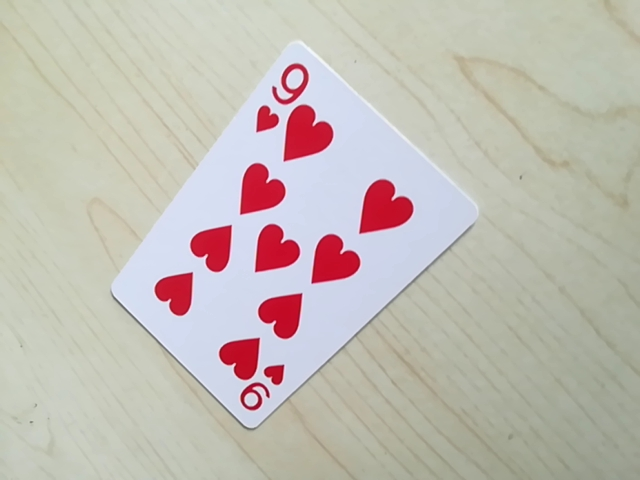hx 9: (257, 54, 317, 128), (232, 367, 293, 420)
